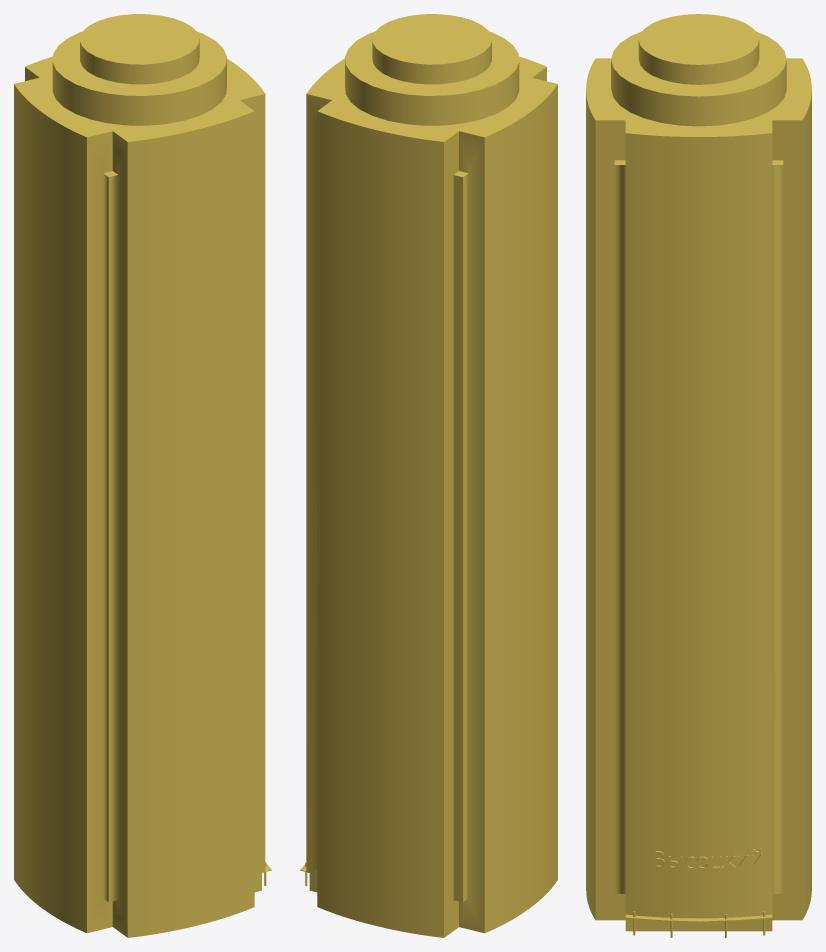
File: Visockiy.obj
The picture shows the model from 3 angles, left to right: view 1: azimuth 30°, elevation 25°; view 2: azimuth 150°, elevation 25°; view 3: azimuth 270°, elevation 25°; orthographic projection.
Visible parts, largest first — view 1: Ellipse002; view 2: Ellipse002; view 3: Ellipse002.
Boxes of the visible parts, <box> form: Ellipse002: <box>14,14,271,937</box>; Ellipse002: <box>300,14,557,937</box>; Ellipse002: <box>586,14,811,937</box>.
Bounding box in the file's own units: 31.7 × 128 × 30.71.
